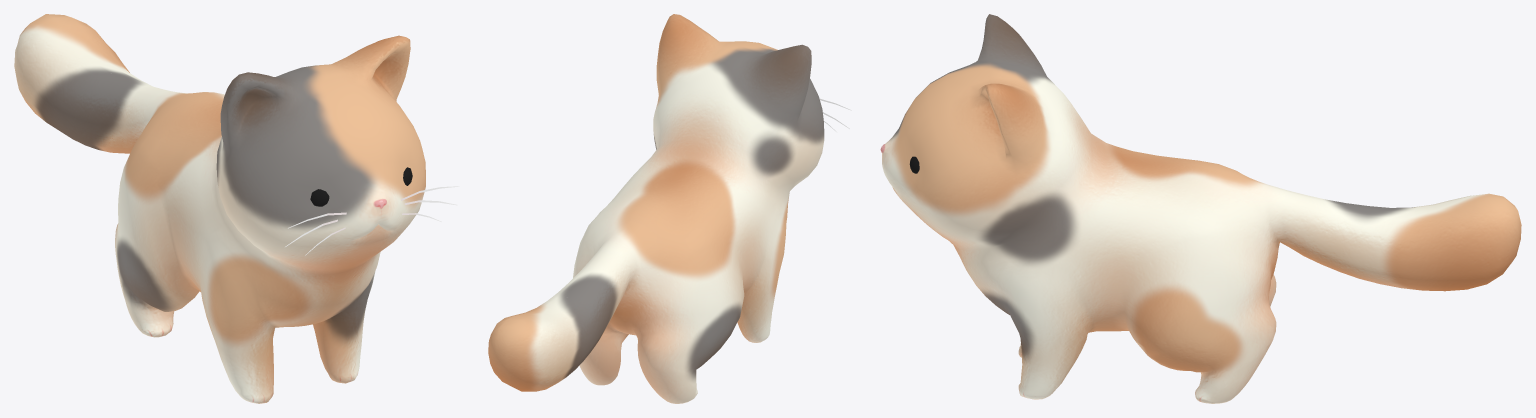
The model's file is yellowcat.glb.
3 renders of one model, left to right at view 1: azimuth 30°, elevation 25°; view 2: azimuth 150°, elevation 25°; view 3: azimuth 270°, elevation 25°, orthographic. The views are drawn at different scales.
Parts seen in each view (by area): view 1: cat; view 2: cat; view 3: cat.
Part boxes in pixels (bbox=[...]): cat: bbox=[14, 14, 459, 403]; cat: bbox=[488, 14, 851, 403]; cat: bbox=[880, 14, 1521, 403].
Bounding box in the file's own units: 0.1195 × 0.2195 × 0.3913.
1 material, 1 textured.
